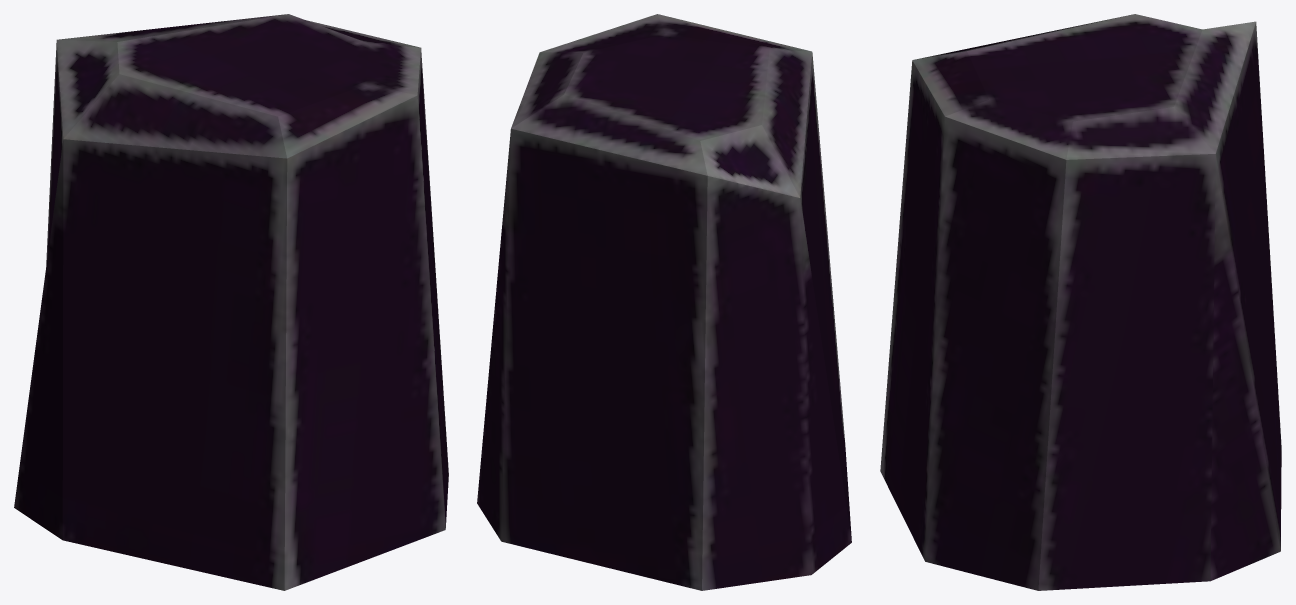
Rendered from rock02-art.glb.
The picture shows the model from 3 angles, left to right: view 1: azimuth 30°, elevation 25°; view 2: azimuth 150°, elevation 25°; view 3: azimuth 270°, elevation 25°; orthographic projection. The views are drawn at different scales.
Parts seen in each view (by area): view 1: Rock02_Art; view 2: Rock02_Art; view 3: Rock02_Art.
Boxes of the visible parts, <box> form: Rock02_Art: <box>14,14,448,590</box>; Rock02_Art: <box>477,14,851,590</box>; Rock02_Art: <box>880,14,1281,590</box>.
Bounding box in the file's own units: 0.2774 × 0.3193 × 0.265.
1 material, 1 textured.
